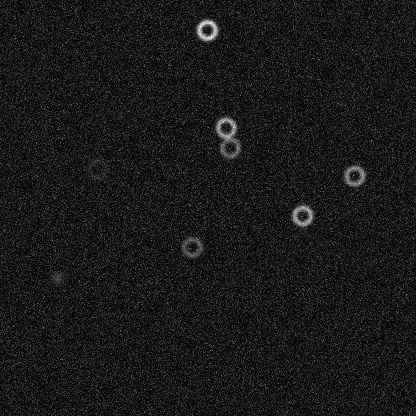Ring: (85, 156, 109, 180), (213, 115, 237, 139), (342, 163, 366, 187), (179, 234, 203, 258), (194, 17, 218, 41), (290, 203, 314, 227), (217, 135, 241, 159)
Spot: (49, 270, 65, 286)
